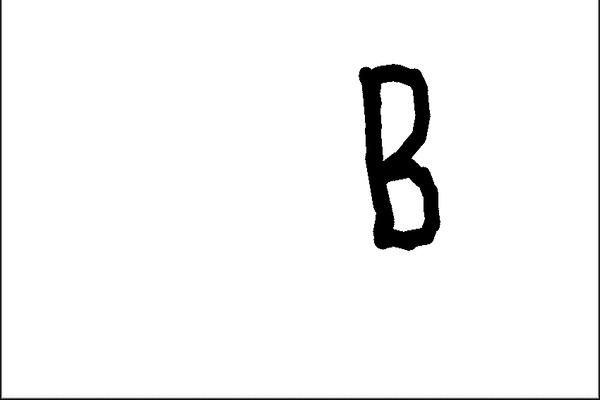B: (345, 56, 449, 256)
